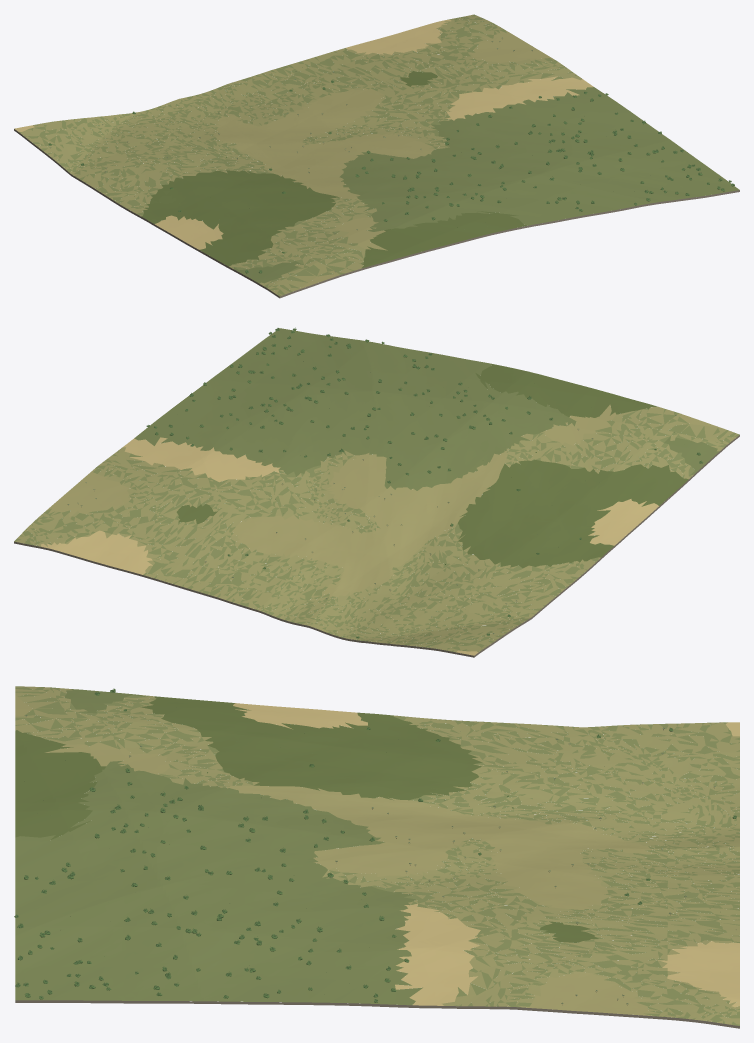
Rendered from parca_+3_-1-yakin.glb.
3 views of the same model, one above another, from view 1: azimuth 30°, elevation 25°; view 2: azimuth 150°, elevation 25°; view 3: azimuth 270°, elevation 25° (orthographic). The views are drawn at different scales.
Visible parts, largest first — view 1: parca_+3_-1_arazi, parca_+3_-1_bitkiler; view 2: parca_+3_-1_arazi, parca_+3_-1_bitkiler; view 3: parca_+3_-1_arazi, parca_+3_-1_bitkiler.
Part boxes in pixels (x1,y1,x2,y2): parca_+3_-1_arazi: (14,14,739,298); parca_+3_-1_bitkiler: (48,37,734,273); parca_+3_-1_arazi: (14,328,739,657); parca_+3_-1_bitkiler: (32,327,703,638); parca_+3_-1_arazi: (15,686,739,1028); parca_+3_-1_bitkiler: (14,688,736,1013).
Bounding box in the file's own units: 1003 × 120 × 1002.
